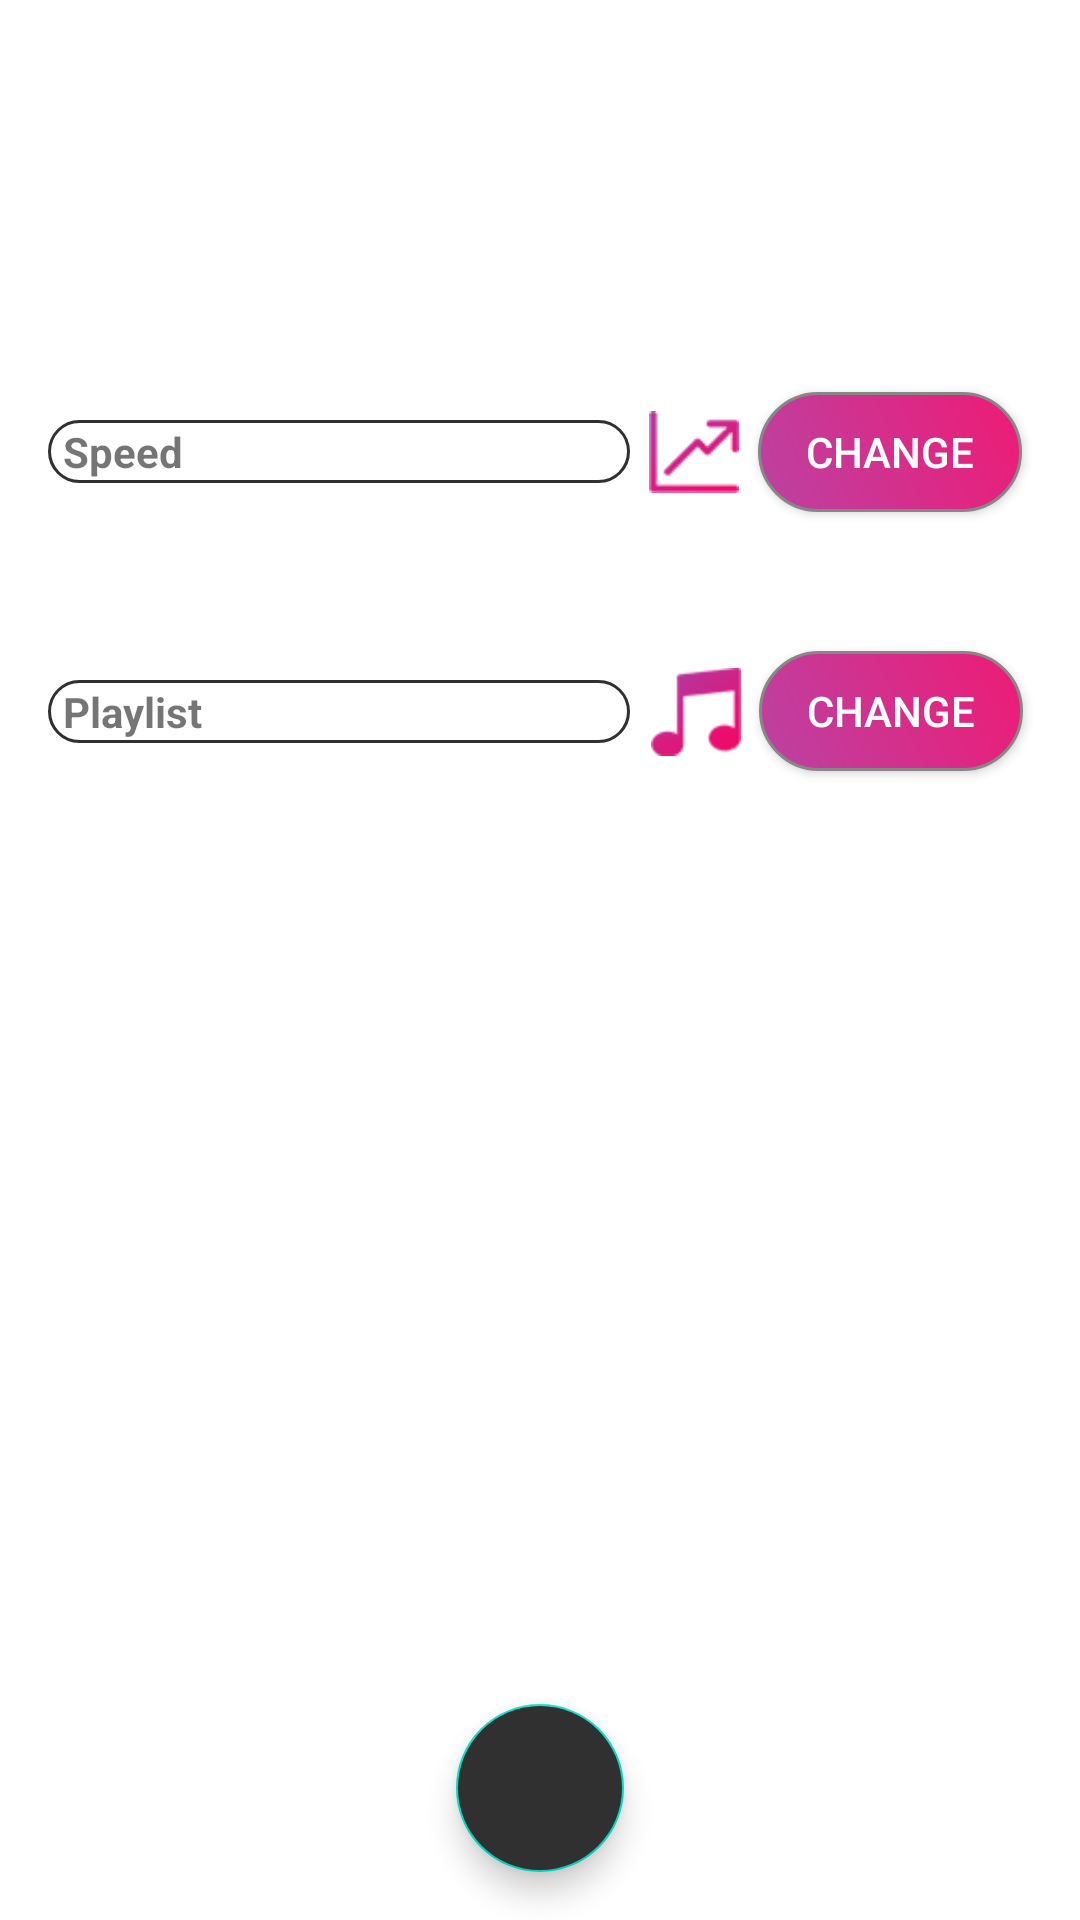

Icons on this 1080px×1920px Android screen, each with its box as (x1, y1, x2, y2):
note: (651, 668, 741, 756)
pace: (649, 411, 739, 493)
